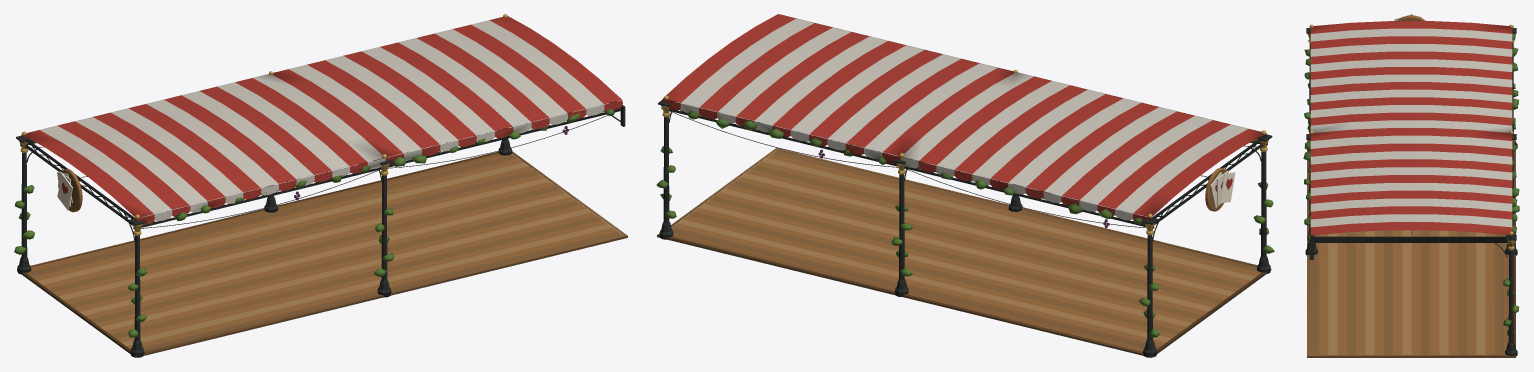
File: pav_cardveranda.glb
3 renders of one model, left to right at view 1: azimuth 30°, elevation 25°; view 2: azimuth 150°, elevation 25°; view 3: azimuth 270°, elevation 25°, orthographic. The views are drawn at different scales.
Parts seen in each view (by area): view 1: static_cardveranda; view 2: static_cardveranda; view 3: static_cardveranda.
Boxes of the visible parts, bbox=[...] form: static_cardveranda: bbox=[14, 14, 627, 357]; static_cardveranda: bbox=[656, 14, 1274, 357]; static_cardveranda: bbox=[1303, 14, 1519, 357].
Size of the model in its own units: 14.01 by 3.83 by 5.86.
